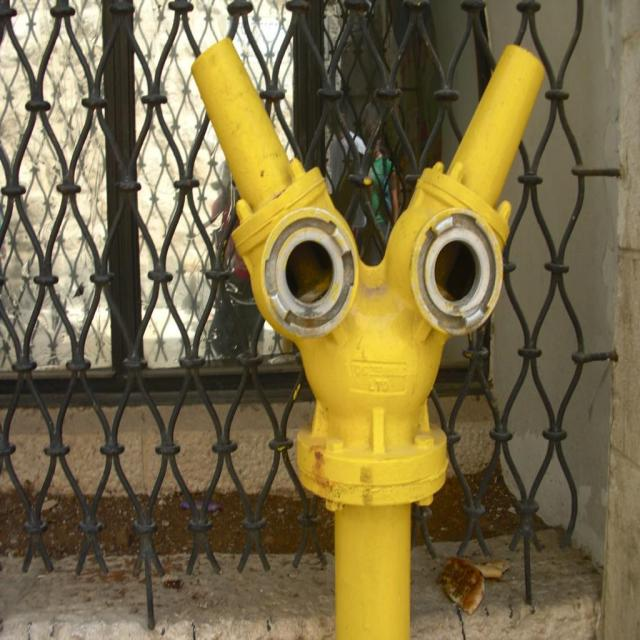fire_hydrant: (192, 38, 544, 640)
